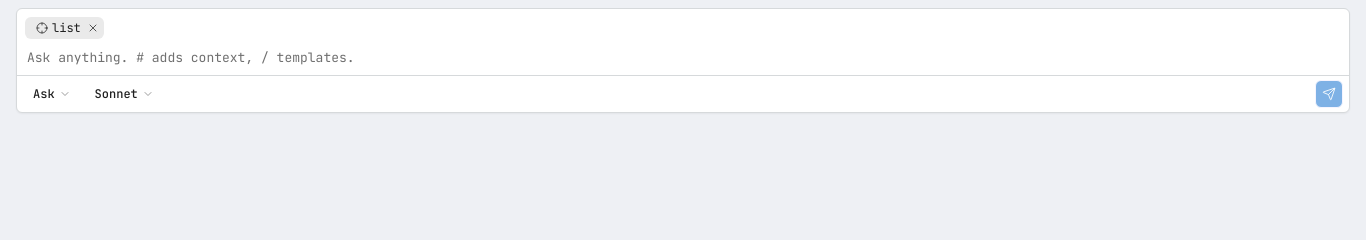
Test case: Composer › changes the model, stores the new options and remembers the choice
Click the button with aria-label "Model: Sonnet" at (124, 94), box [85,80,164,108]
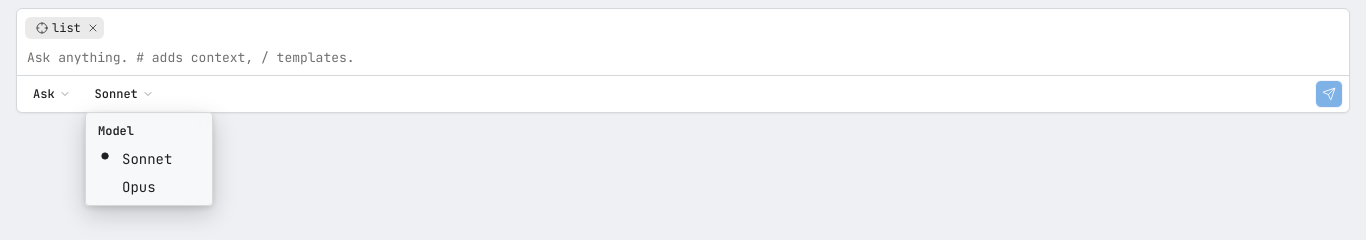
Click the menu item "Opus" at (139, 187), box [122,178,156,196]
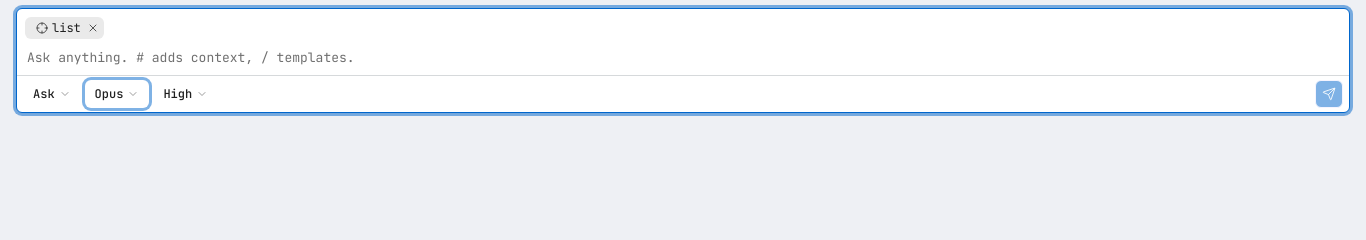
Expected: the button with aria-label "Effort: High" is shown, [153,80,218,108]
Expected: the button with aria-label "Model: Opus" is shown, [85,80,149,108]
